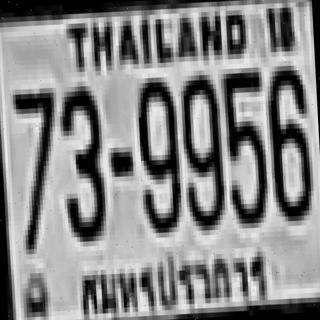N03: (58, 81, 104, 238)
N05: (220, 67, 266, 224)
N06: (263, 60, 312, 217)
N07: (9, 83, 59, 250)
N09: (134, 72, 180, 229), (178, 70, 224, 226)
P57: (77, 240, 274, 320)
